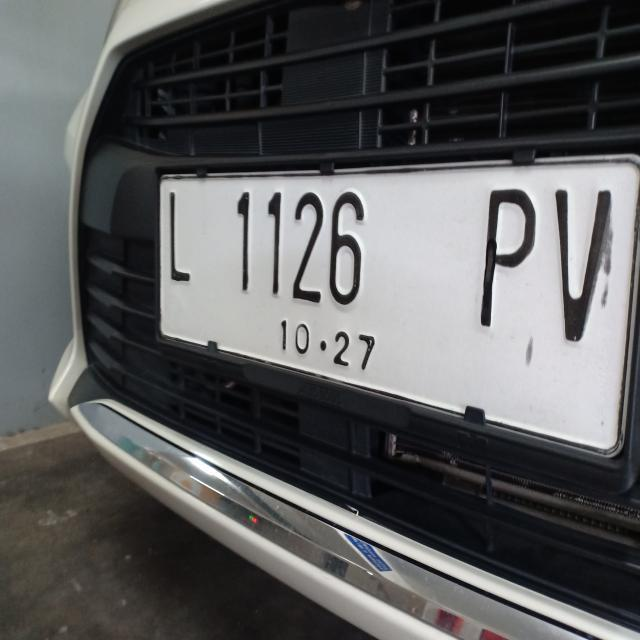1: (230, 177, 256, 299), (266, 186, 284, 304)
2: (290, 188, 324, 312)
6: (328, 190, 368, 312)
L: (164, 190, 191, 288)
P: (480, 181, 540, 330)
V: (552, 186, 612, 342)
